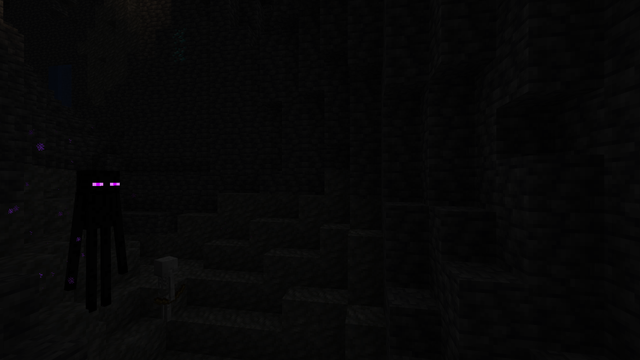endermens: (70, 165, 123, 312)
squelettes: (150, 256, 179, 325)
